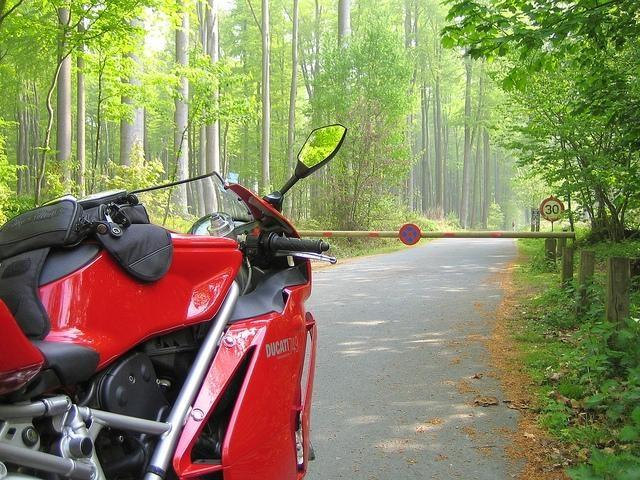motorcycle: (0, 125, 349, 480)
